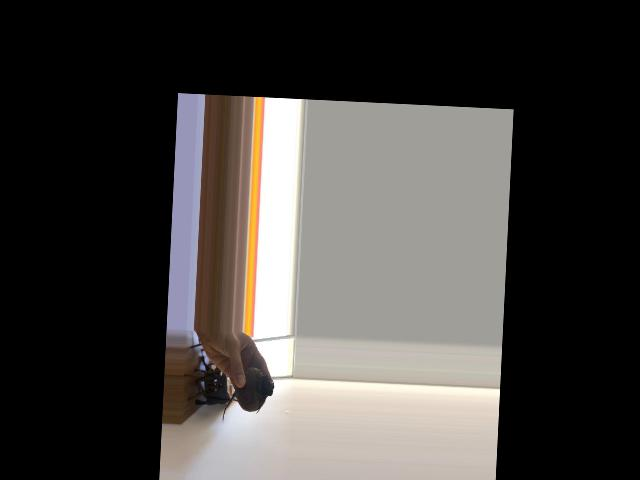beet: (222, 366, 274, 425)
